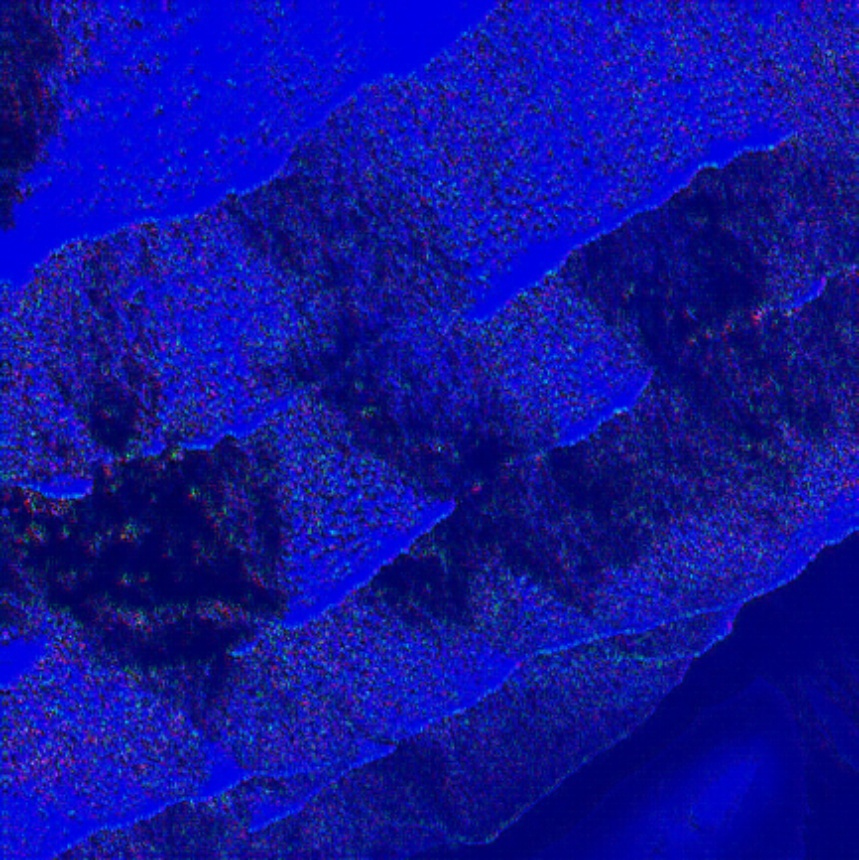rip_current: (202, 156, 653, 638)
